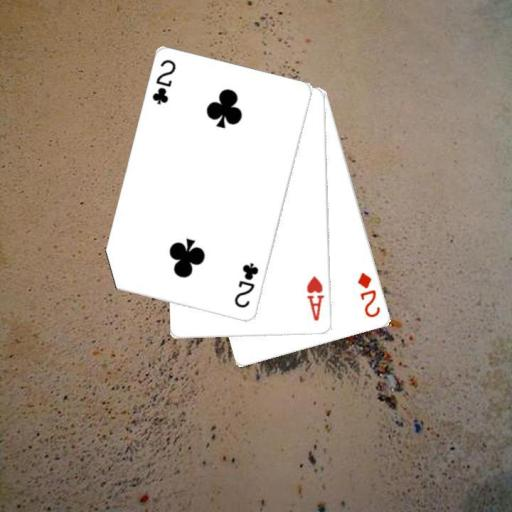2C: (149, 56, 178, 107), (231, 260, 260, 310)
2D: (354, 270, 383, 320)
AH: (304, 273, 326, 322)
